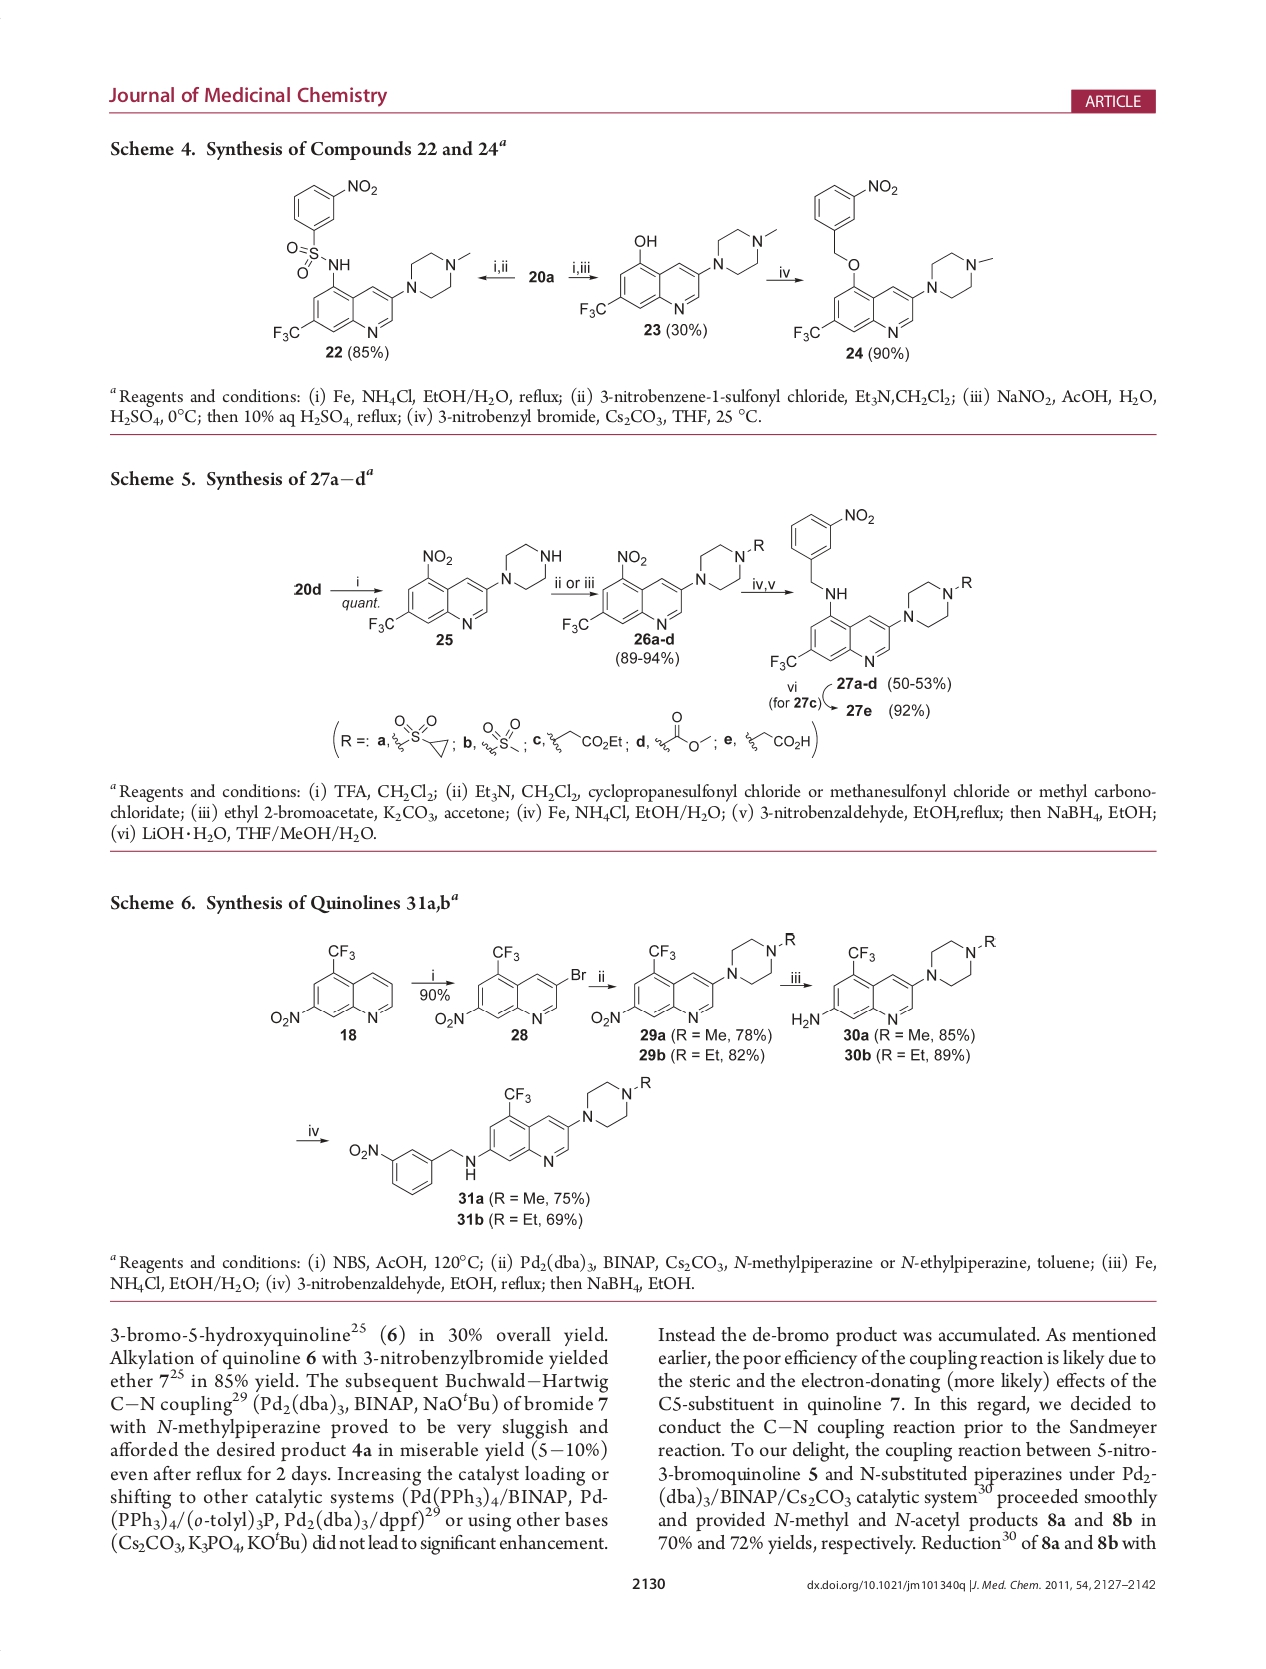exist_molecular: (347, 1072, 657, 1196), (269, 170, 475, 343), (789, 176, 996, 344), (767, 505, 976, 672), (793, 923, 996, 1031), (563, 535, 766, 634), (589, 928, 793, 1027), (576, 222, 778, 321), (363, 540, 563, 634), (430, 942, 590, 1029), (269, 936, 399, 1027), (390, 705, 449, 759), (652, 706, 713, 759), (543, 723, 626, 758), (741, 723, 810, 754), (476, 713, 523, 757)
